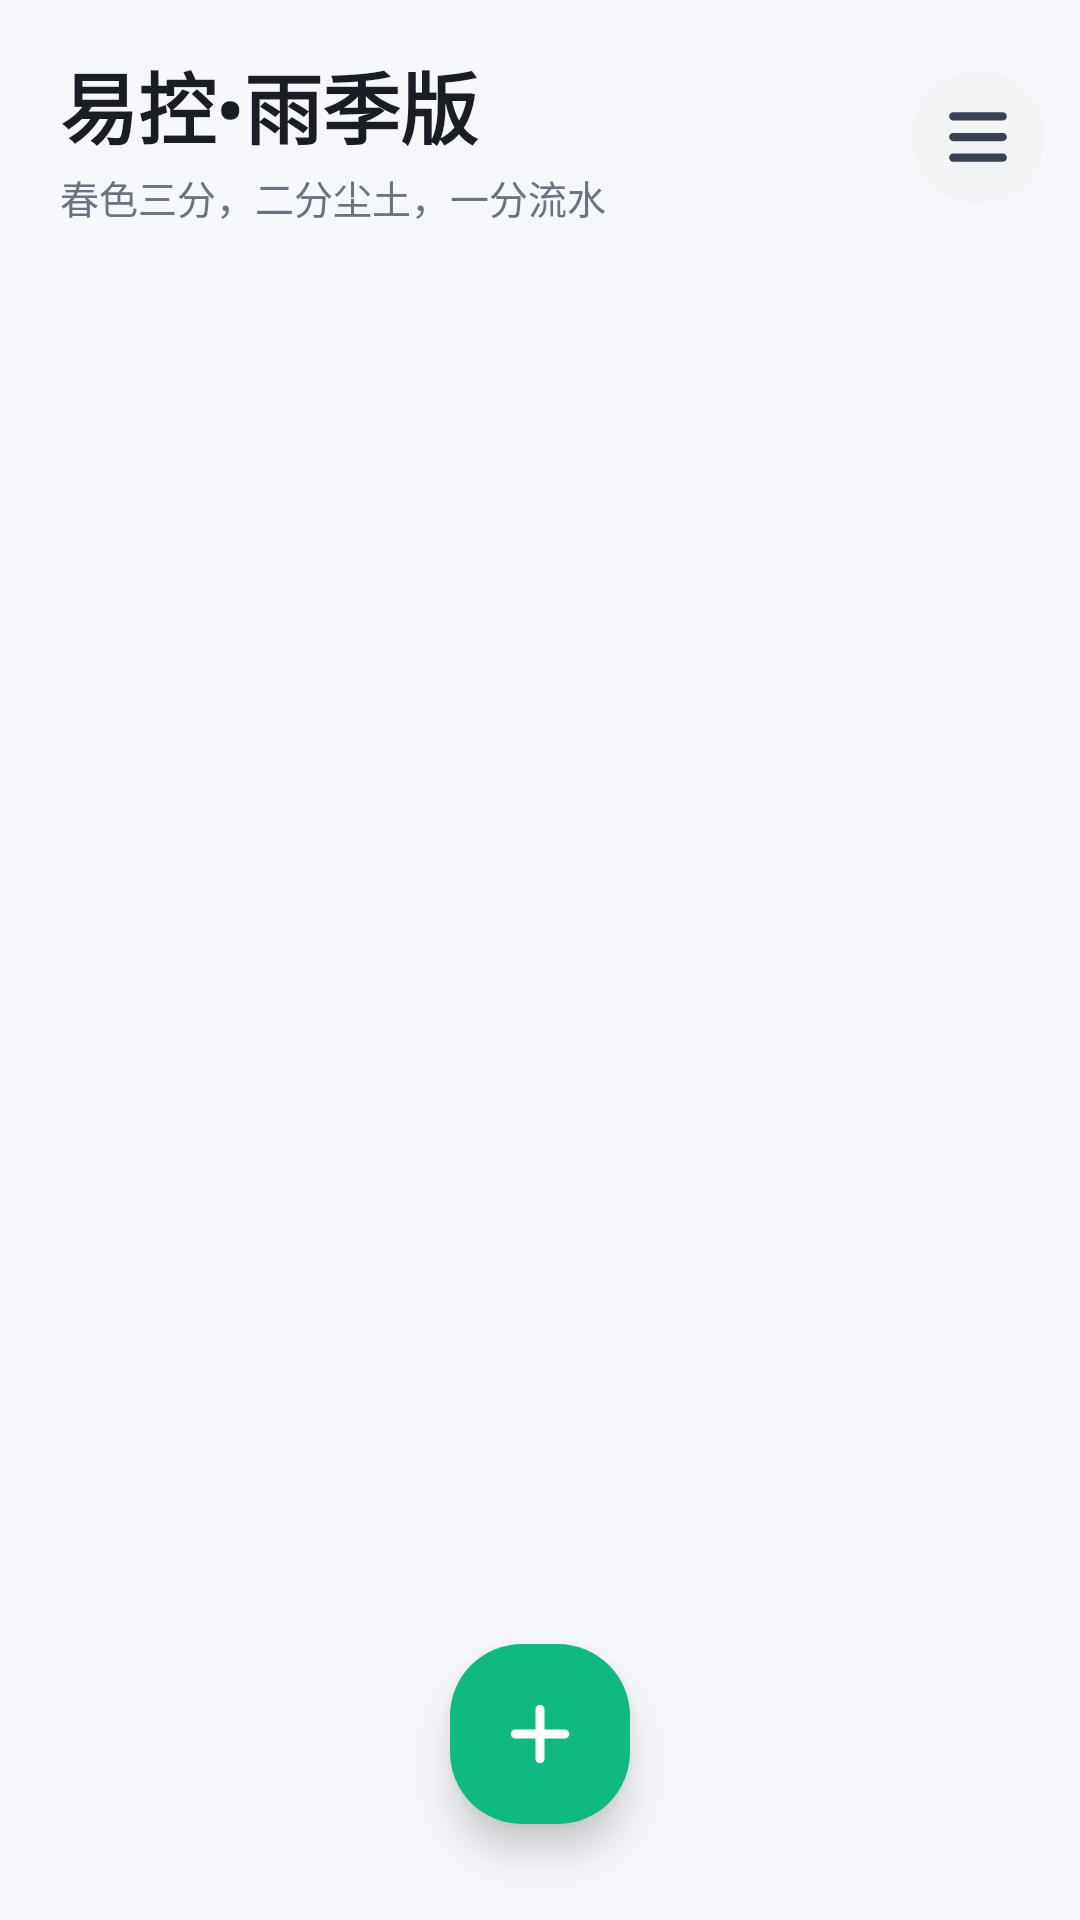

Icons on this 1080 x 1920 Android screen, each with its box as [left=x1, top=y1, right=x2, bottom=y2]:
bars: [left=949, top=112, right=1007, bottom=162]
plus: [left=450, top=1644, right=630, bottom=1824]
